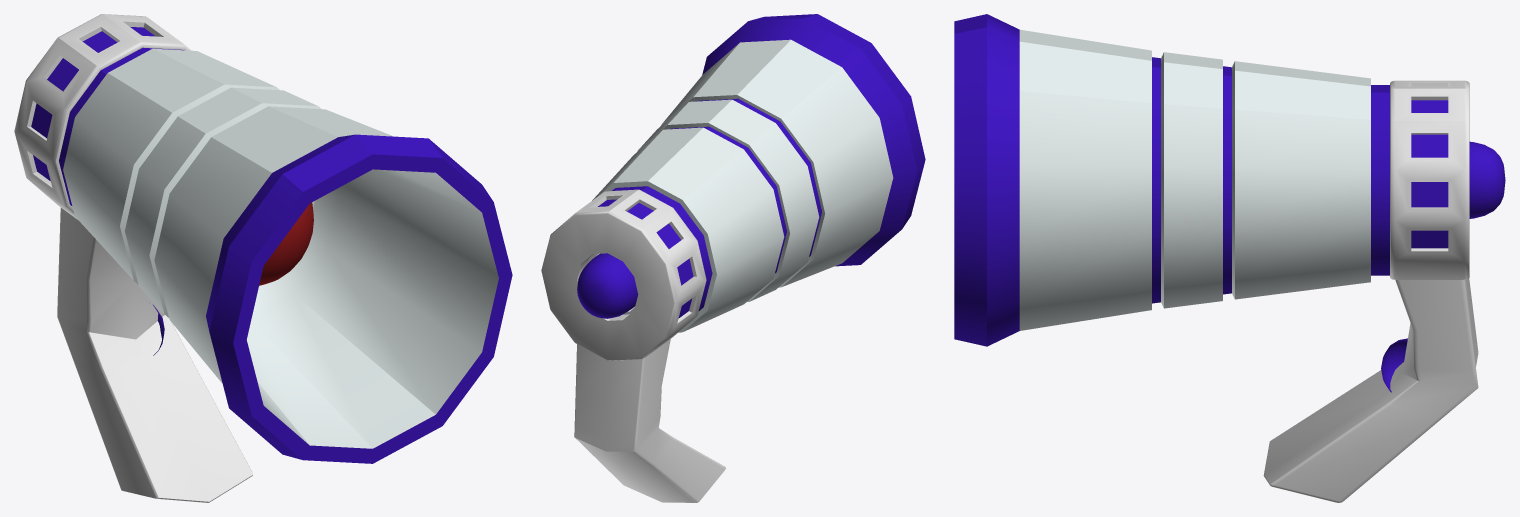
Rendered from Megafono.fbx.
3 views of the same model, side by side, from view 1: azimuth 30°, elevation 25°; view 2: azimuth 150°, elevation 25°; view 3: azimuth 270°, elevation 25° (orthographic). The views are drawn at different scales.
Parts seen in each view (by area): view 1: Sphere.002; view 2: Sphere.002; view 3: Sphere.002.
Boxes of the visible parts, x1,y1,x2,y2 form: Sphere.002: (14, 14, 512, 502); Sphere.002: (541, 14, 925, 502); Sphere.002: (954, 14, 1505, 502).
Bounding box in the file's own units: 30.05 × 48.47 × 51.87.
